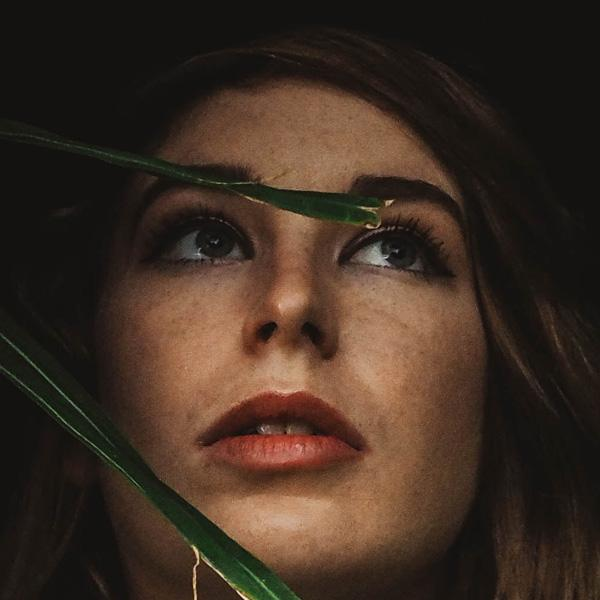Eyes: (335, 212, 454, 294), (135, 204, 258, 279)
